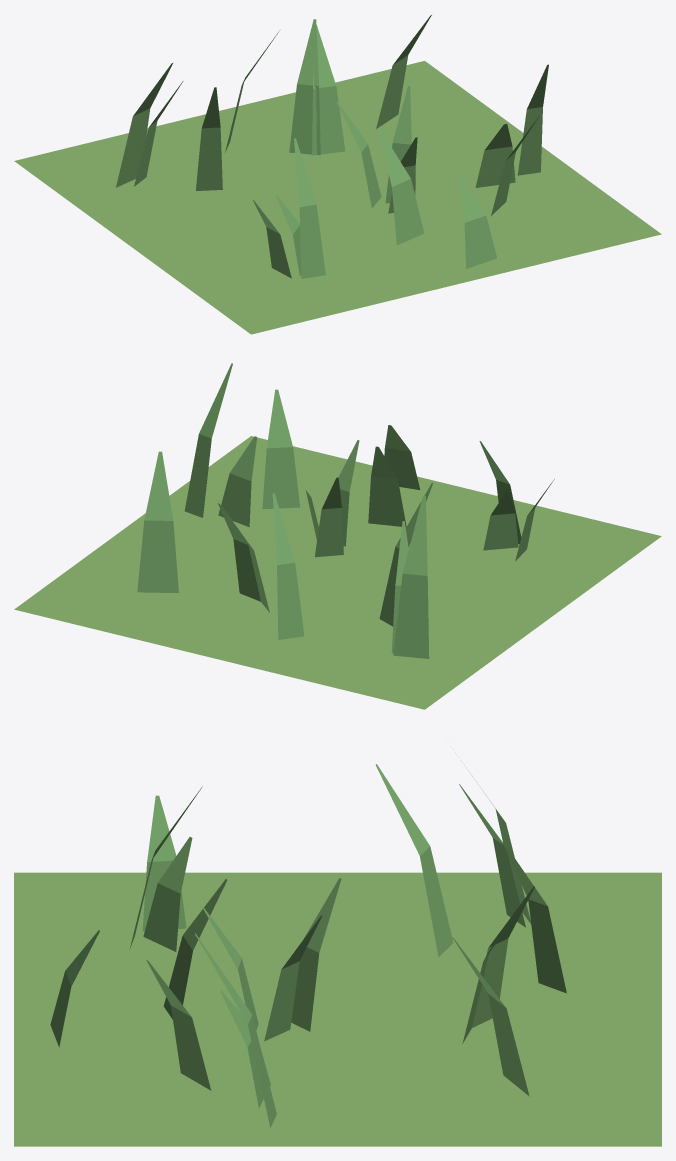
The model's file is grass_patch.glb.
3 renders of one model, top to bottom at view 1: azimuth 30°, elevation 25°; view 2: azimuth 150°, elevation 25°; view 3: azimuth 270°, elevation 25°, orthographic. The views are drawn at different scales.
Visible parts, largest first — view 1: grass_patch; view 2: grass_patch; view 3: grass_patch.
Boxes of the visible parts, x1=… form: grass_patch: x1=14, y1=15, x2=661, y2=334; grass_patch: x1=14, y1=363, x2=661, y2=709; grass_patch: x1=14, y1=762, x2=661, y2=1146.
Bounding box in the file's own units: 1 × 0.3176 × 1.
